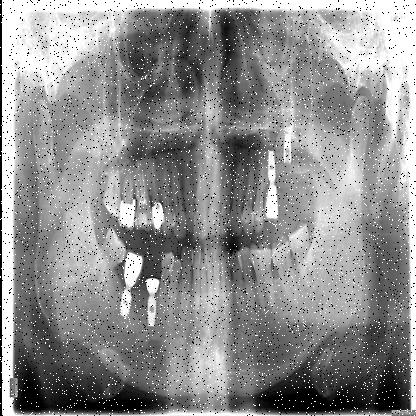Bicon: (115, 284, 132, 322), (264, 147, 274, 185), (280, 134, 290, 168), (145, 294, 155, 327)
